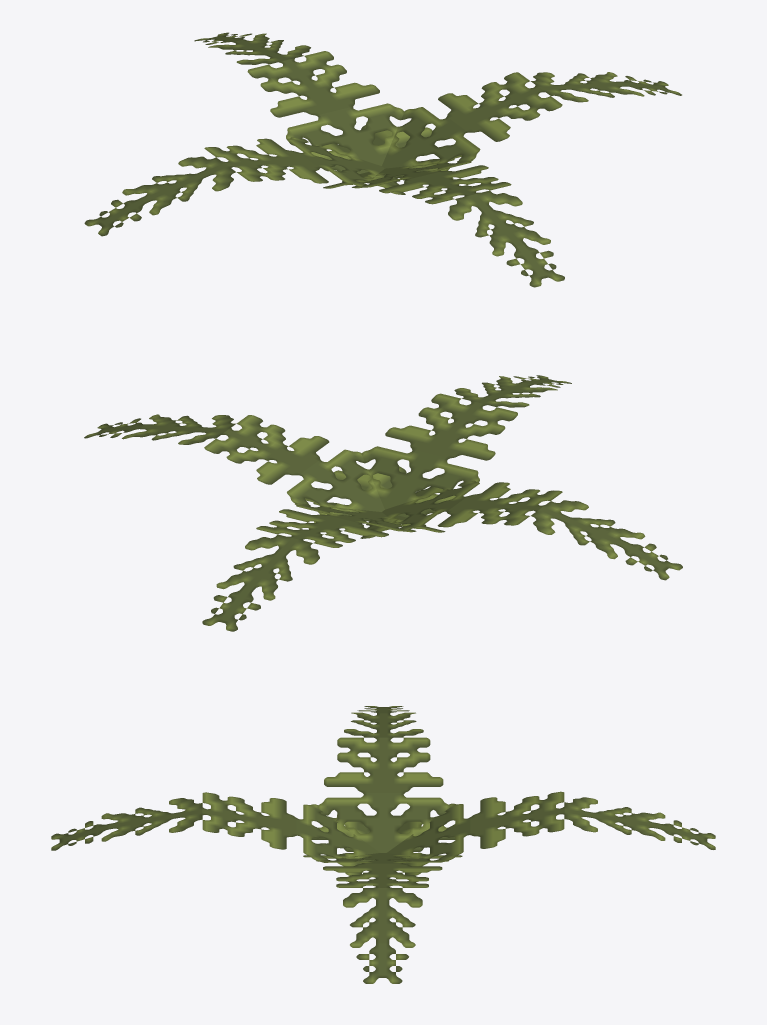
File: long_grass_01.fbx
3 renders of one model, top to bottom at view 1: azimuth 30°, elevation 25°; view 2: azimuth 150°, elevation 25°; view 3: azimuth 270°, elevation 25°, orthographic. The views are drawn at different scales.
Visible parts, largest first — view 1: long_grass_01; view 2: long_grass_01; view 3: long_grass_01.
Part boxes in pixels (bbox=[...]): long_grass_01: bbox=[84, 32, 681, 287]; long_grass_01: bbox=[84, 375, 682, 631]; long_grass_01: bbox=[51, 706, 715, 983].
Size of the model in its own units: 820 by 53.3 by 827.
1 material, 1 textured.
